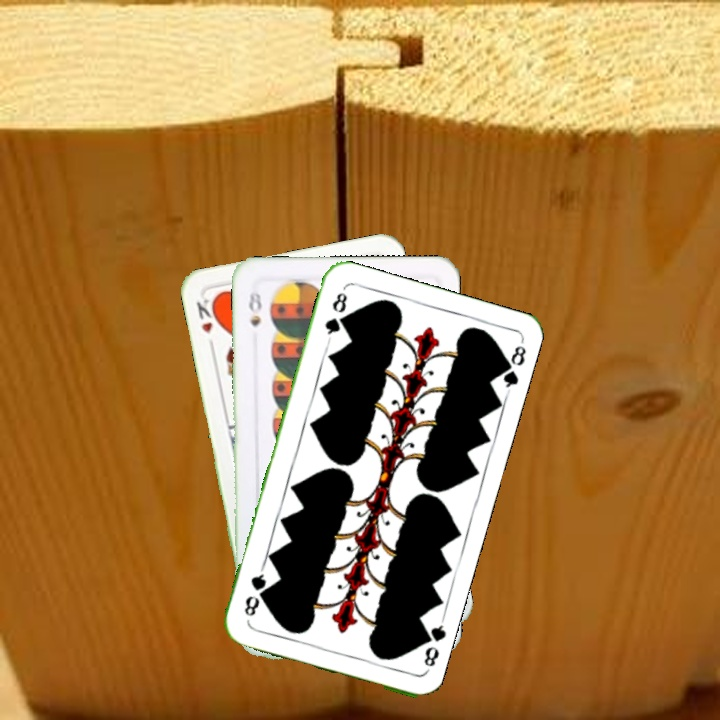G8: (415, 616, 448, 674), (320, 288, 350, 343)
HK: (192, 292, 222, 336)
S8: (245, 285, 265, 329)
